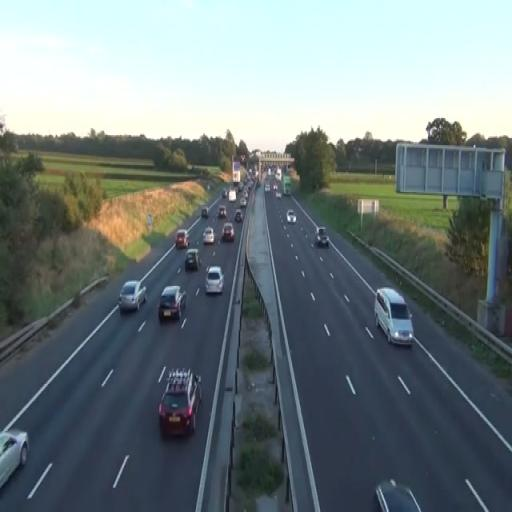Car: (158, 366, 202, 438), (374, 287, 414, 346), (0, 429, 30, 488), (158, 285, 186, 321), (118, 280, 147, 312), (205, 265, 225, 295), (184, 249, 200, 272), (314, 226, 329, 248), (175, 229, 190, 249), (222, 223, 234, 242), (204, 227, 214, 244), (234, 209, 243, 223), (218, 206, 227, 218)
